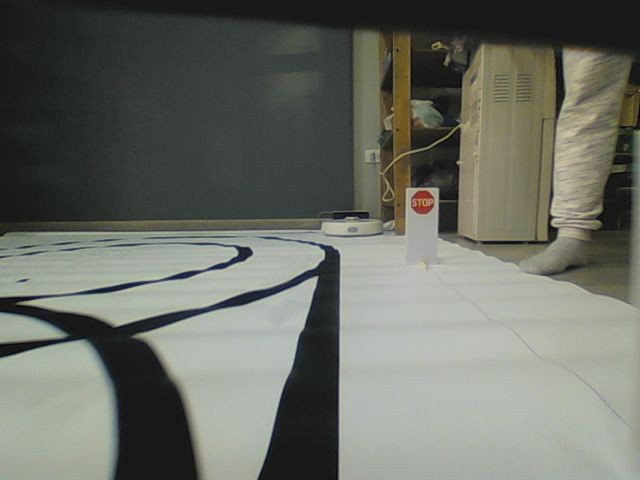Stop: (409, 189, 436, 215)
